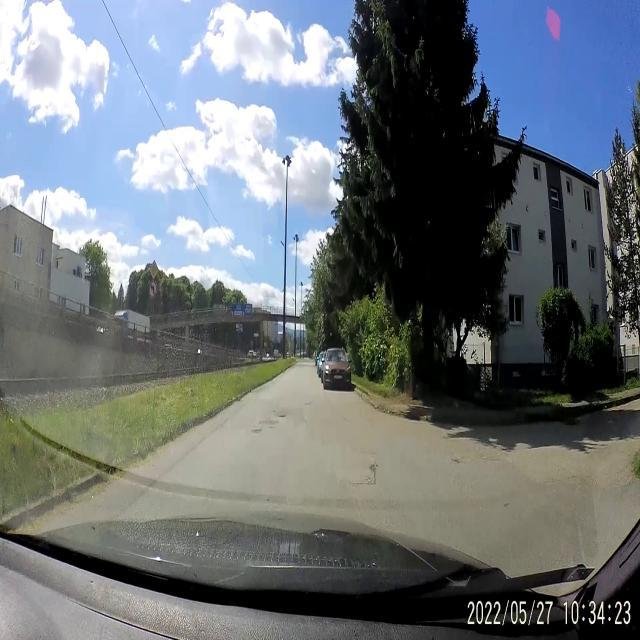Pothole: (366, 454, 380, 488), (447, 452, 464, 467), (274, 406, 288, 420), (252, 424, 264, 440)
